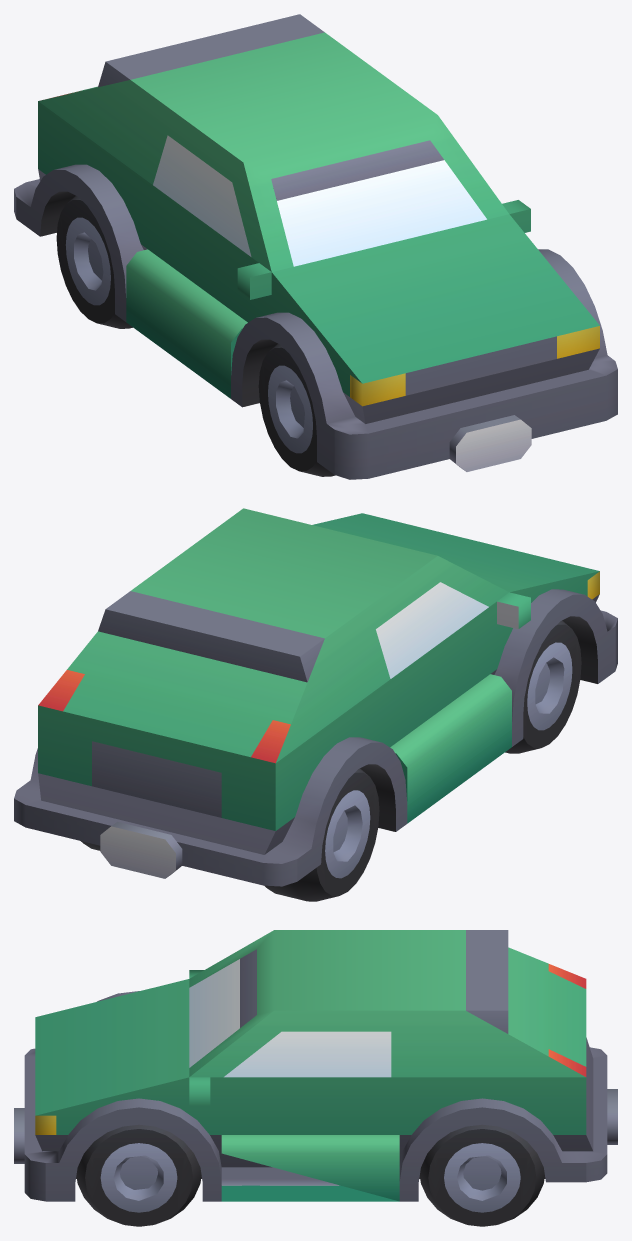
Rendered from traffic_hatchback.glb.
3 views of the same model, one above another, from view 1: azimuth 30°, elevation 25°; view 2: azimuth 150°, elevation 25°; view 3: azimuth 270°, elevation 25° (orthographic). The views are drawn at different scales.
Visible parts, largest first — view 1: wheel-front-right; view 2: wheel-front-right; view 3: wheel-front-right.
Part boxes in pixels (box(x1,y1,x2,y2)): wheel-front-right: box(14, 14, 617, 479); wheel-front-right: box(14, 508, 617, 901); wheel-front-right: box(14, 930, 617, 1226).
Size of the model in its own units: 1.3 by 1.1 by 2.85.
Materials: 1 (1 with a texture image).
